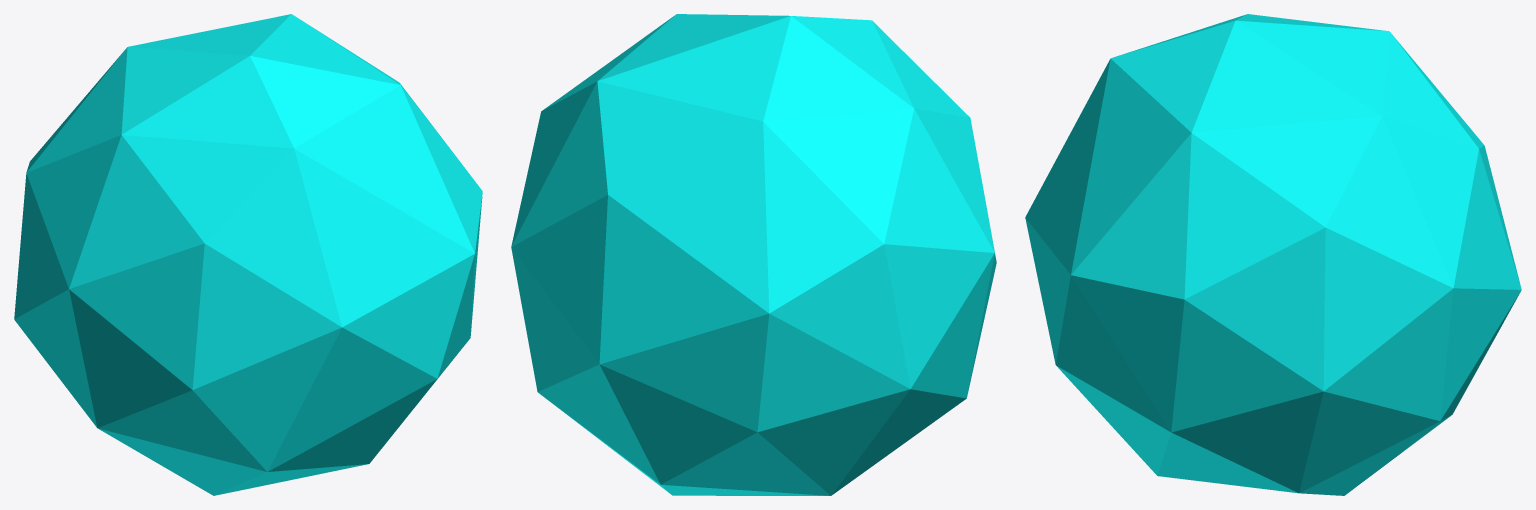
The model's file is steroide3.fbx.
3 views of the same model, side by side, from view 1: azimuth 30°, elevation 25°; view 2: azimuth 150°, elevation 25°; view 3: azimuth 270°, elevation 25° (orthographic). The views are drawn at different scales.
Parts seen in each view (by area): view 1: Sfera_3; view 2: Sfera_3; view 3: Sfera_3.
Part boxes in pixels (bbox=[...]): Sfera_3: bbox=[14, 14, 482, 495]; Sfera_3: bbox=[511, 14, 996, 495]; Sfera_3: bbox=[1025, 14, 1521, 495].
Size of the model in its own units: 104 by 105 by 106.
